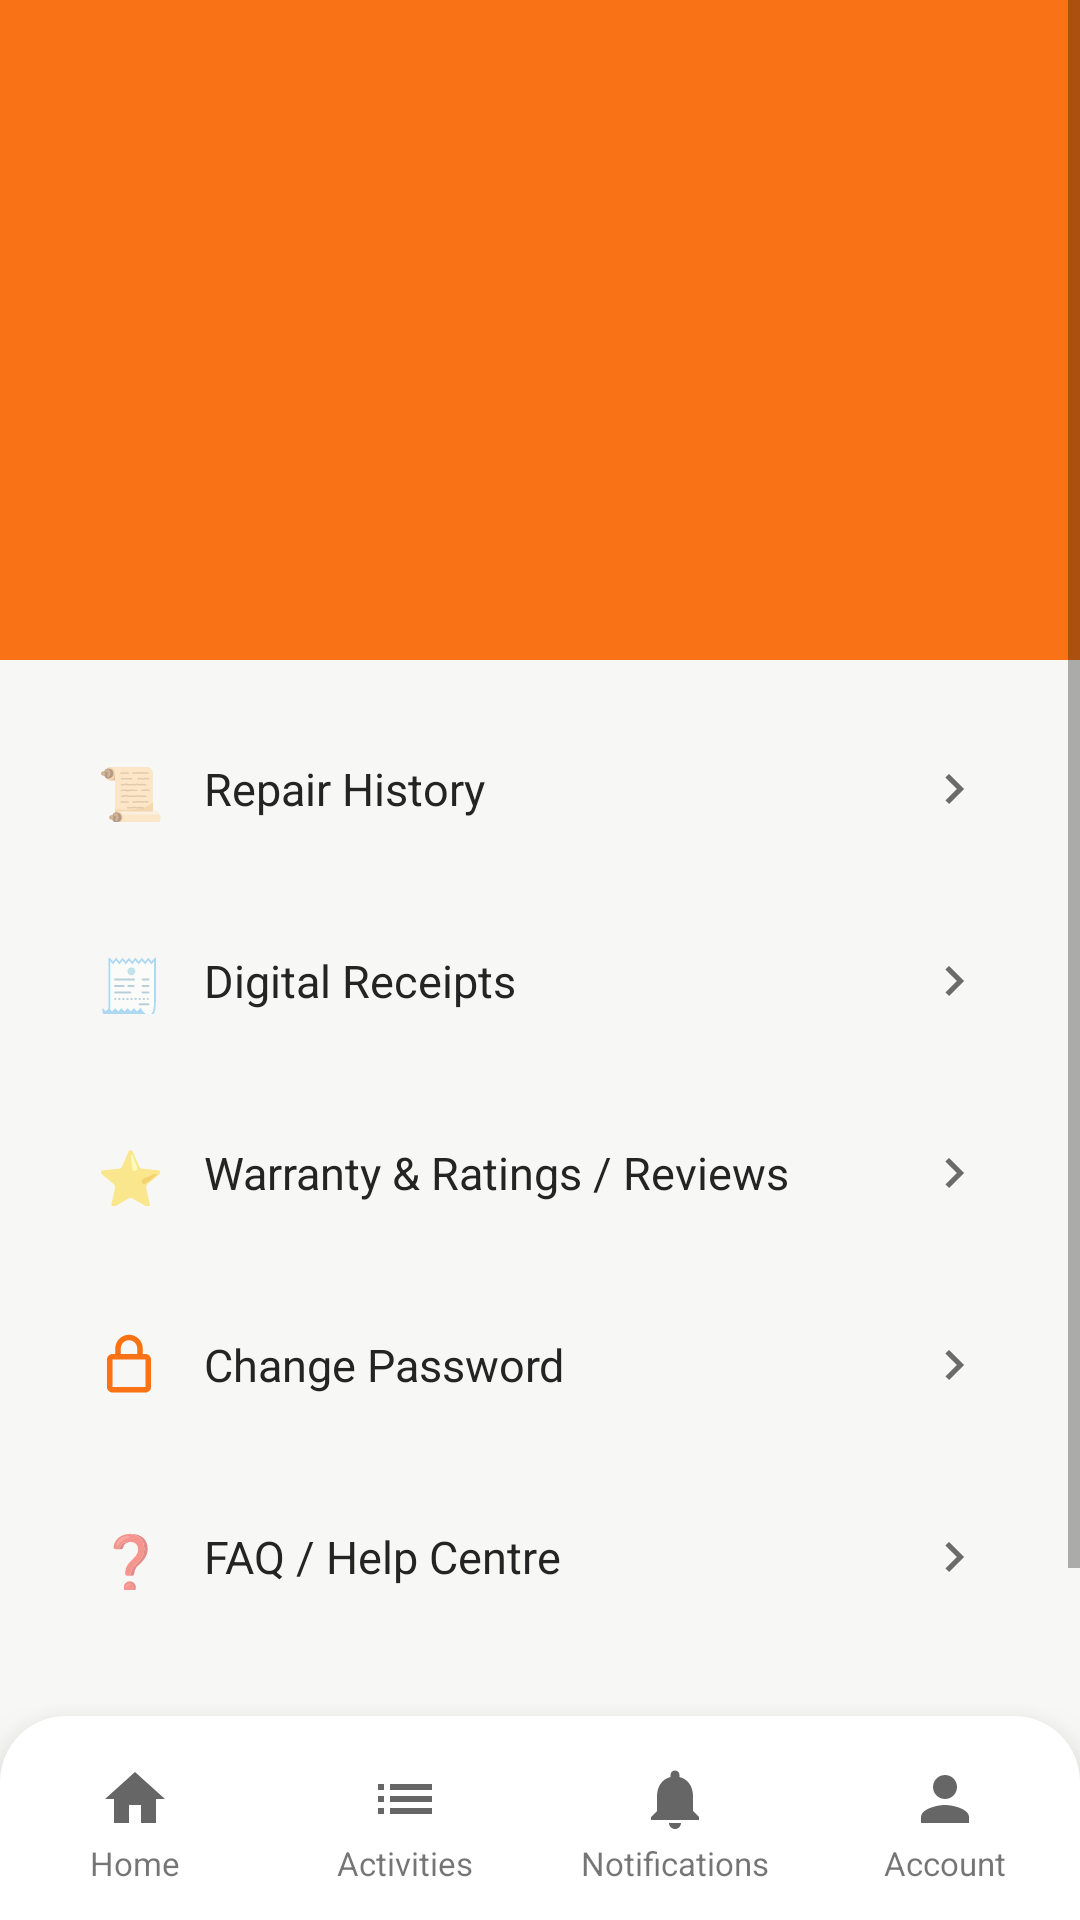

Locate icon controls on the screen. Image size 1080 x 1920, boxes as (x1, y1, x2, y2).
chevron right: (945, 774, 964, 804), (945, 966, 964, 996), (945, 1158, 964, 1188), (945, 1350, 964, 1380), (945, 1542, 964, 1572)
lock: (107, 1334, 151, 1393)
